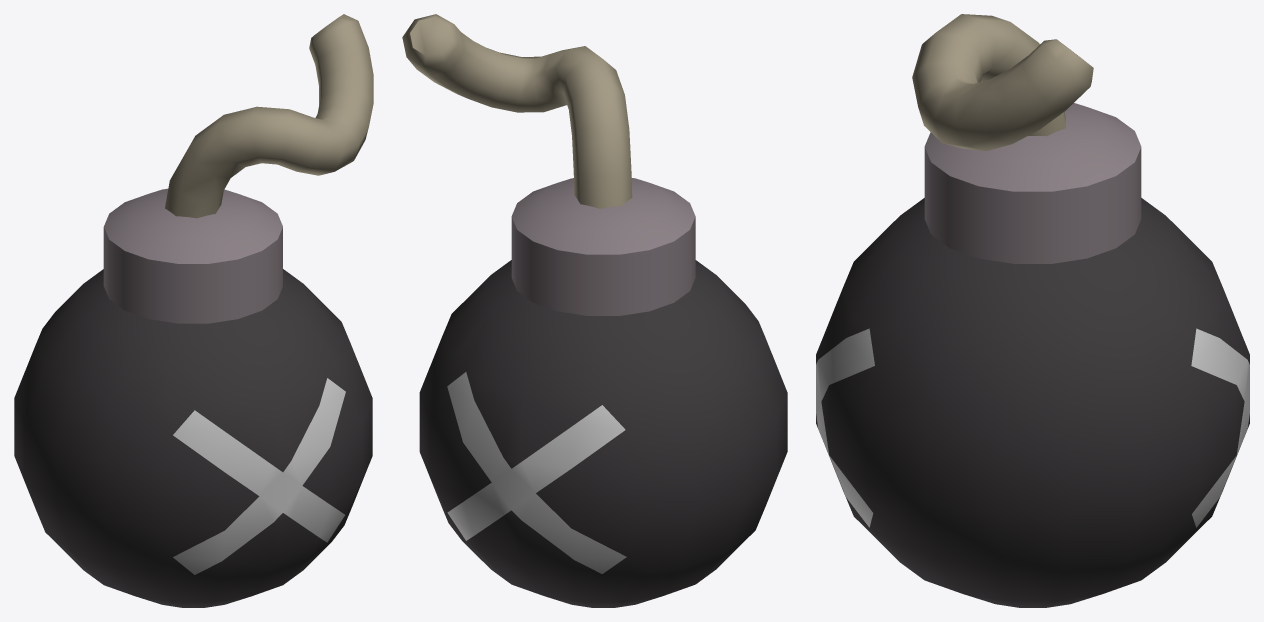
The model's file is Bomb.glb.
The picture shows the model from 3 angles, left to right: view 1: azimuth 30°, elevation 25°; view 2: azimuth 150°, elevation 25°; view 3: azimuth 270°, elevation 25°; orthographic projection. The views are drawn at different scales.
Parts seen in each view (by area): view 1: Prop_Bomb; view 2: Prop_Bomb; view 3: Prop_Bomb.
Part boxes in pixels (<box>): Prop_Bomb: <box>14,14,373,607</box>; Prop_Bomb: <box>402,14,787,607</box>; Prop_Bomb: <box>816,14,1249,607</box>.
Bounding box in the file's own units: 0.456 × 0.6954 × 0.4272.
Materials: 1 (1 with a texture image).
